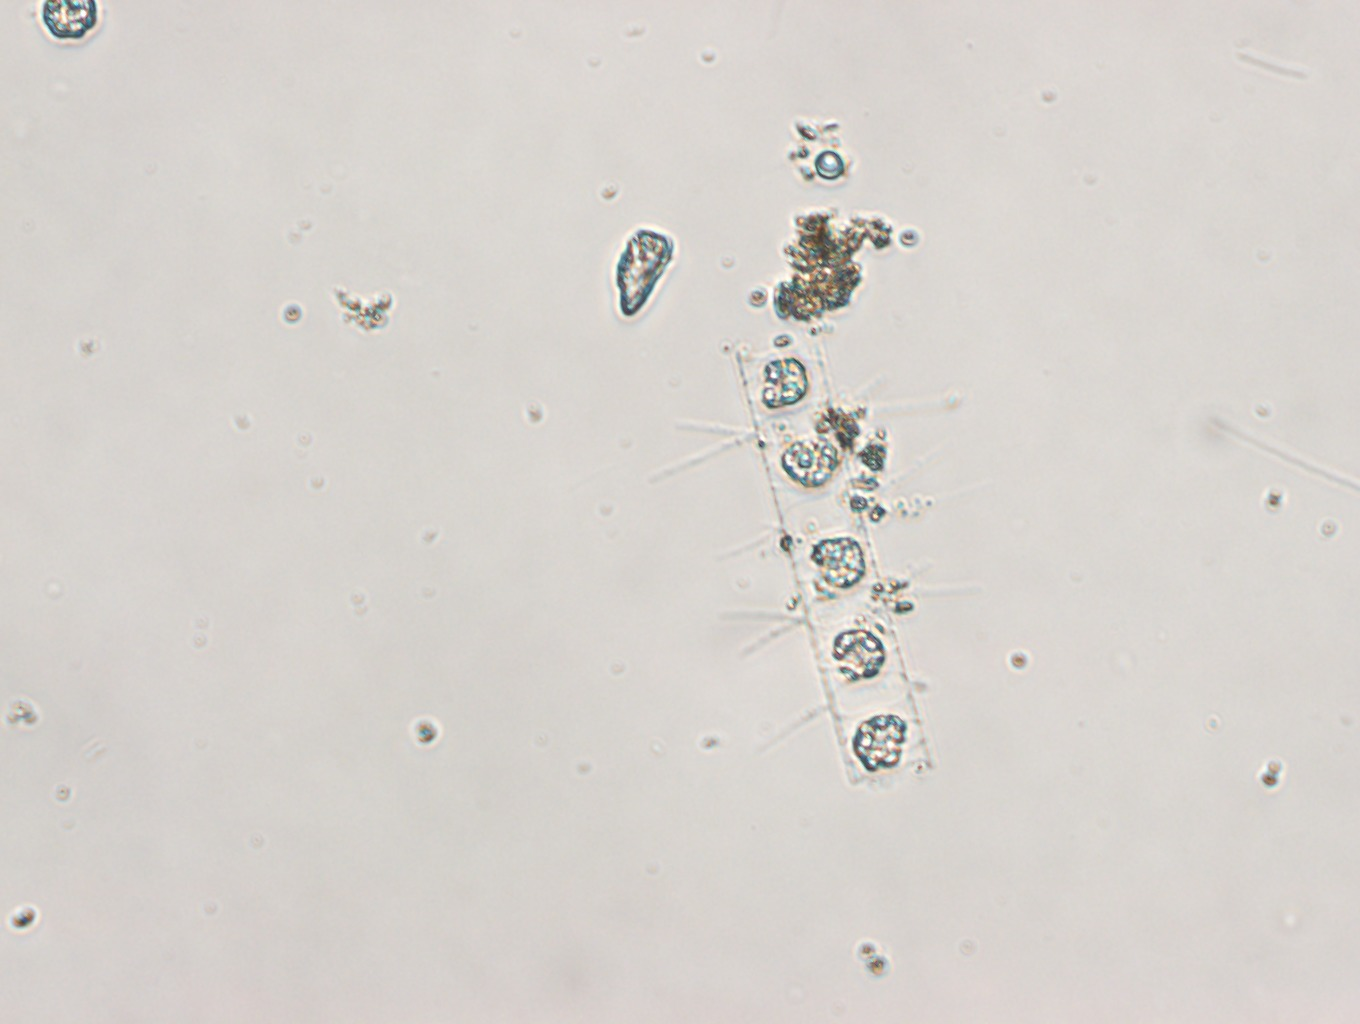chaetoceros: (657, 331, 982, 791)
